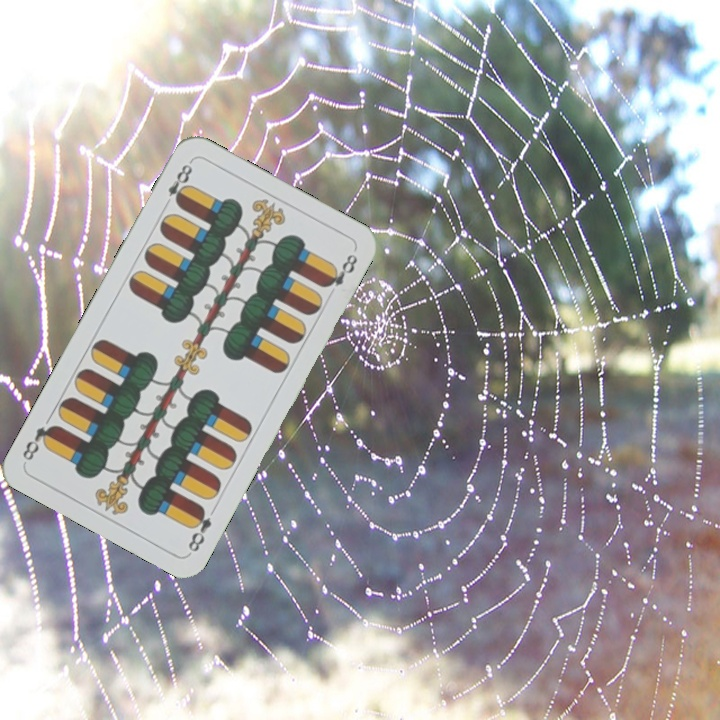E8: (159, 157, 196, 210), (184, 502, 215, 555)
